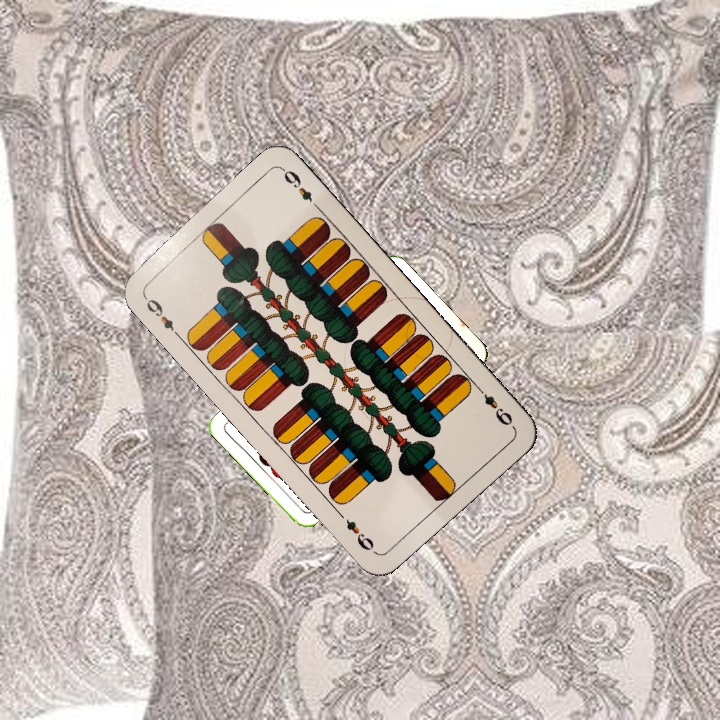E9: (139, 291, 182, 339), (472, 382, 515, 428)
